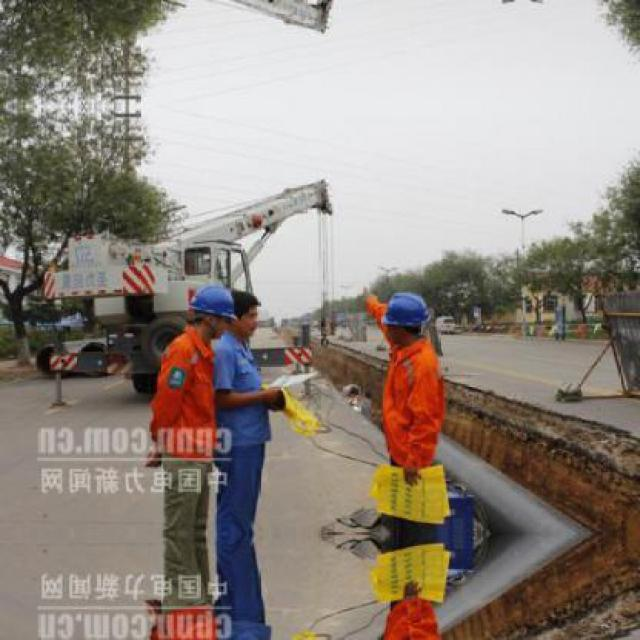Reflective-Jacket: (143, 328, 223, 469), (371, 334, 452, 468), (380, 598, 445, 640)
Safety-Helmet: (371, 285, 437, 336), (182, 279, 243, 327), (284, 624, 330, 640)
